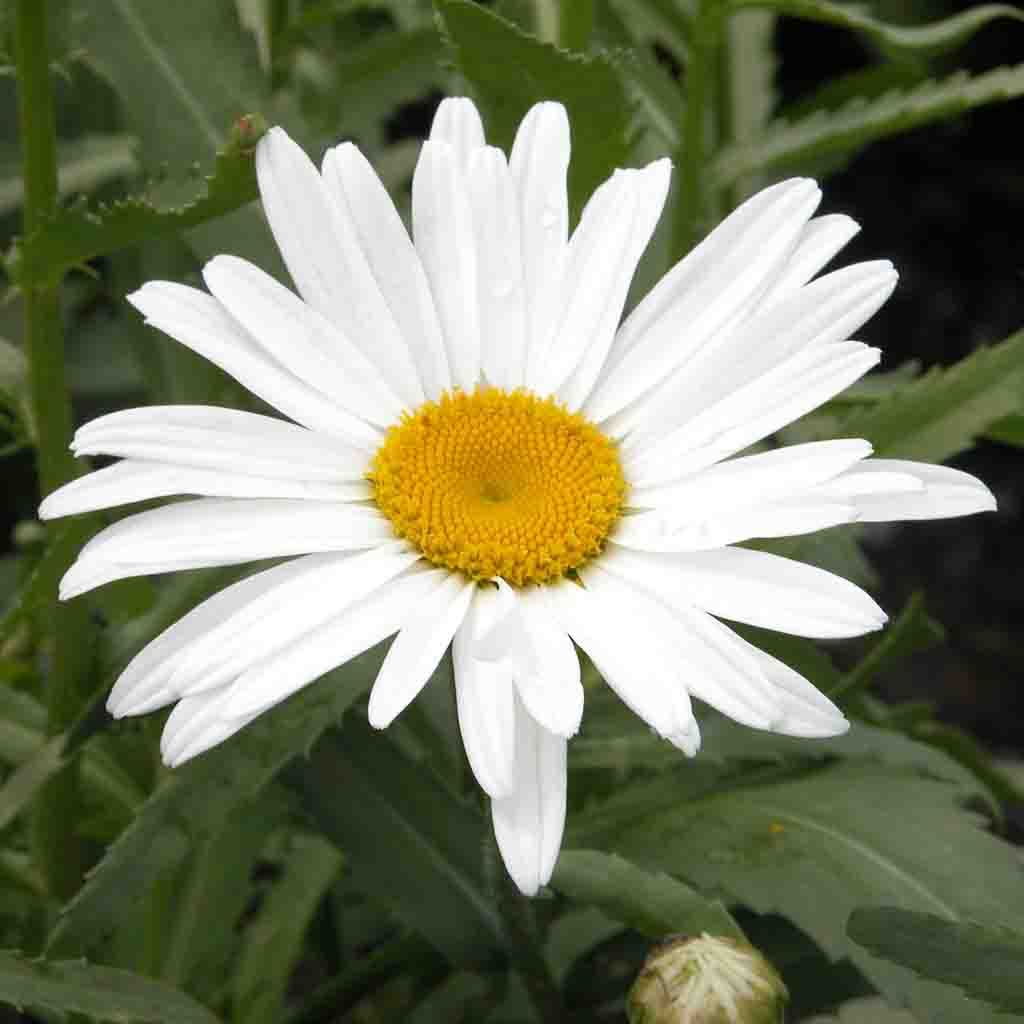Daisy: (40, 100, 995, 889)
